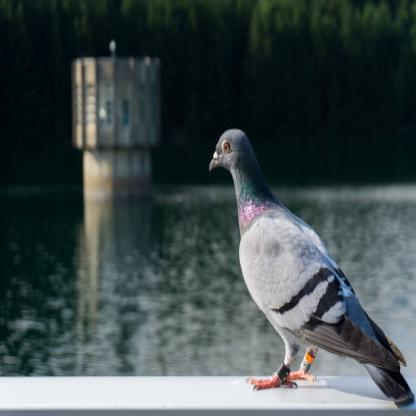Flying Rat: (205, 127, 416, 416)
